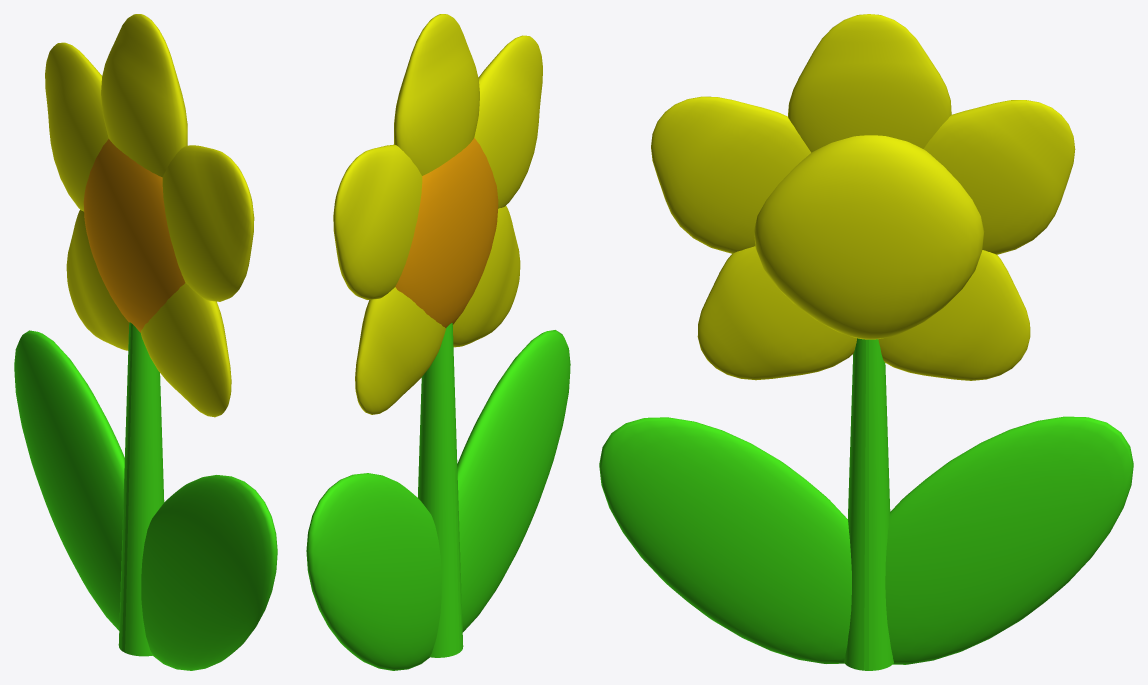
The model's file is Flower.fbx.
3 renders of one model, left to right at view 1: azimuth 30°, elevation 25°; view 2: azimuth 150°, elevation 25°; view 3: azimuth 270°, elevation 25°, orthographic. The views are drawn at different scales.
Parts seen in each view (by area): view 1: Sphere.002; view 2: Sphere.002; view 3: Sphere.002.
Boxes of the visible parts, <box> form: Sphere.002: <box>14,14,277,670</box>; Sphere.002: <box>306,14,570,670</box>; Sphere.002: <box>599,14,1133,670</box>.
Bounding box in the file's own units: 90.54 × 801 × 596.
